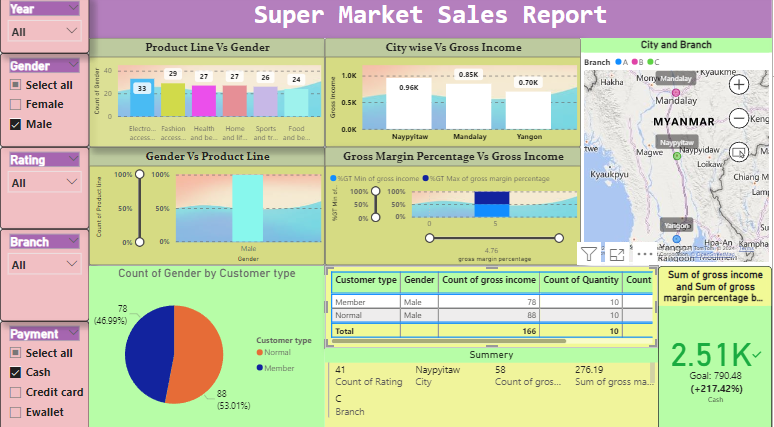

The dashboard page shown, as its layout file describes it:
{"tool":"powerbi","page":{"name":"Page 1","canvas":[1280,720],"ordinal":0},"visuals":[{"type":"textbox","box":[147.6,0,1132.4,69.6],"z":0},{"type":"slicer","fields":{"Values":["supermarket_sales - Sheet1.Gender"]},"box":[0,94.5,147.6,155.9],"z":1000},{"type":"slicer","fields":{"Values":["supermarket_sales - Sheet1.Rating"]},"box":[0,250.4,147.6,136],"z":2000},{"type":"slicer","fields":{"Values":["supermarket_sales - Sheet1.Payment"]},"box":[0,538.9,147.6,180.7],"z":3000},{"type":"slicer","fields":{"Values":["supermarket_sales - Sheet1.Branch"]},"box":[0,386.3,147.6,152.5],"z":4000},{"type":"hundredPercentStackedColumnChart","title":"Gender Vs Product Line","fields":{"Category":["supermarket_sales - Sheet1.Gender"],"Y":["CountNonNull(supermarket_sales - Sheet1.Product line)"]},"box":[147.6,250.4,391.3,195.6],"z":5000},{"type":"lineClusteredColumnComboChart","title":"Product Line Vs Gender","fields":{"Category":["supermarket_sales - Sheet1.Product line"],"Y":["CountNonNull(supermarket_sales - Sheet1.Gender)"]},"box":[147.6,69.6,391.3,180.7],"z":6000},{"type":"clusteredColumnChart","title":"City wise Vs Gross Income","fields":{"Category":["supermarket_sales - Sheet1.City"],"Y":["Sum(supermarket_sales - Sheet1.gross income)"]},"box":[538.9,69.6,424.5,180.7],"z":7000},{"type":"slicer","fields":{"Values":["supermarket_sales - Sheet1.Date.Variation.Date Hierarchy.Year"]},"box":[0,0,147.6,94.5],"z":7001},{"type":"hundredPercentStackedColumnChart","title":"Gross Margin Percentage Vs Gross Income","fields":{"Y":["Sum(supermarket_sales - Sheet1.gross income)","Sum(supermarket_sales - Sheet1.gross margin percentage)"],"Category":["supermarket_sales - Sheet1.gross margin percentage"]},"box":[538.9,250.4,424.5,195.6],"z":7002},{"type":"map","fields":{"Category":["supermarket_sales - Sheet1.City"],"Series":["supermarket_sales - Sheet1.Branch"]},"box":[963.3,69.6,316.7,376.4],"z":7003},{"type":"pieChart","fields":{"Category":["supermarket_sales - Sheet1.Customer type"],"Y":["CountNonNull(supermarket_sales - Sheet1.Gender)"]},"box":[147.6,447.7,391.3,271.9],"z":7004},{"type":"tableEx","fields":{"Values":["supermarket_sales - Sheet1.Customer type","supermarket_sales - Sheet1.Gender","Count(supermarket_sales - Sheet1.gross income)","Count(supermarket_sales - Sheet1.Quantity)","Count(supermarket_sales - Sheet1.gross margin percentage)"]},"box":[538.9,447.7,552.1,136],"z":7005},{"type":"kpi","fields":{"TrendLine":["supermarket_sales - Sheet1.Payment"],"Goal":["Sum(supermarket_sales - Sheet1.gross margin percentage)"],"Indicator":["Sum(supermarket_sales - Sheet1.gross income)"]},"box":[1091,447.7,189,271.9],"z":7006},{"type":"multiRowCard","title":"Summery","fields":{"Values":["Count(supermarket_sales - Sheet1.Rating)","supermarket_sales - Sheet1.City","Count(supermarket_sales - Sheet1.gross income)","Sum(supermarket_sales - Sheet1.gross margin percentage)","supermarket_sales - Sheet1.Branch"]},"box":[538.9,583.6,552.1,136],"z":7007}]}

Visuals, with their boxes in screenshot pixels (x1, y1, x2, y2), scaled from the page's 1280x720 canvas onto the 774x427 screenshot:
textbox: <box>89,0,773,41</box>
slicer - supermarket_sales - Sheet1.Gender: <box>0,56,89,149</box>
slicer - supermarket_sales - Sheet1.Rating: <box>0,149,89,229</box>
slicer - supermarket_sales - Sheet1.Payment: <box>0,320,89,426</box>
slicer - supermarket_sales - Sheet1.Branch: <box>0,229,89,320</box>
"Gender Vs Product Line" hundredPercentStackedColumnChart: <box>89,149,326,265</box>
"Product Line Vs Gender" lineClusteredColumnComboChart: <box>89,41,326,148</box>
"City wise Vs Gross Income" clusteredColumnChart: <box>326,41,583,148</box>
slicer - supermarket_sales - Sheet1.Date.Variation.Date Hierarchy.Year: <box>0,0,89,56</box>
"Gross Margin Percentage Vs Gross Income" hundredPercentStackedColumnChart: <box>326,149,583,265</box>
map - supermarket_sales - Sheet1.City x supermarket_sales - Sheet1.Branch: <box>582,41,773,265</box>
pieChart - supermarket_sales - Sheet1.Customer type x CountNonNull(supermarket_sales - Sheet1.Gender): <box>89,266,326,426</box>
tableEx - supermarket_sales - Sheet1.Customer type x supermarket_sales - Sheet1.Gender: <box>326,266,660,346</box>
kpi - supermarket_sales - Sheet1.Payment x Sum(supermarket_sales - Sheet1.gross margin percentage): <box>660,266,773,426</box>
"Summery" multiRowCard: <box>326,346,660,426</box>
